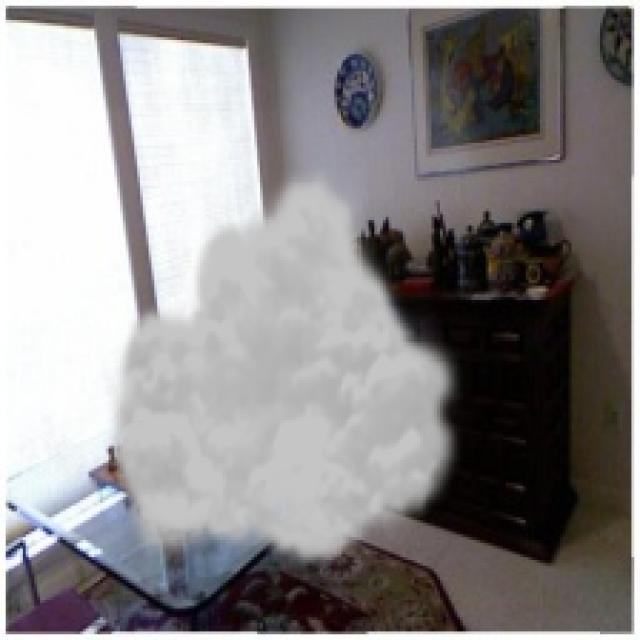smoke: (103, 163, 468, 568)
